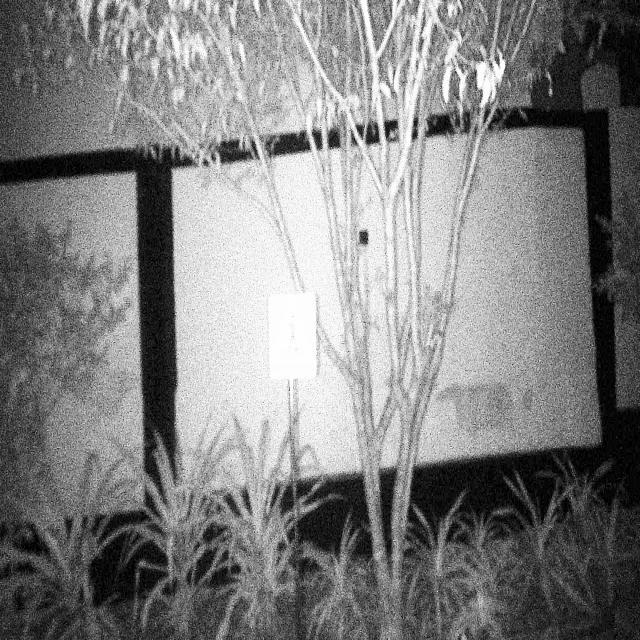Sign: (266, 290, 319, 382)
Tree: (322, 4, 485, 598)
